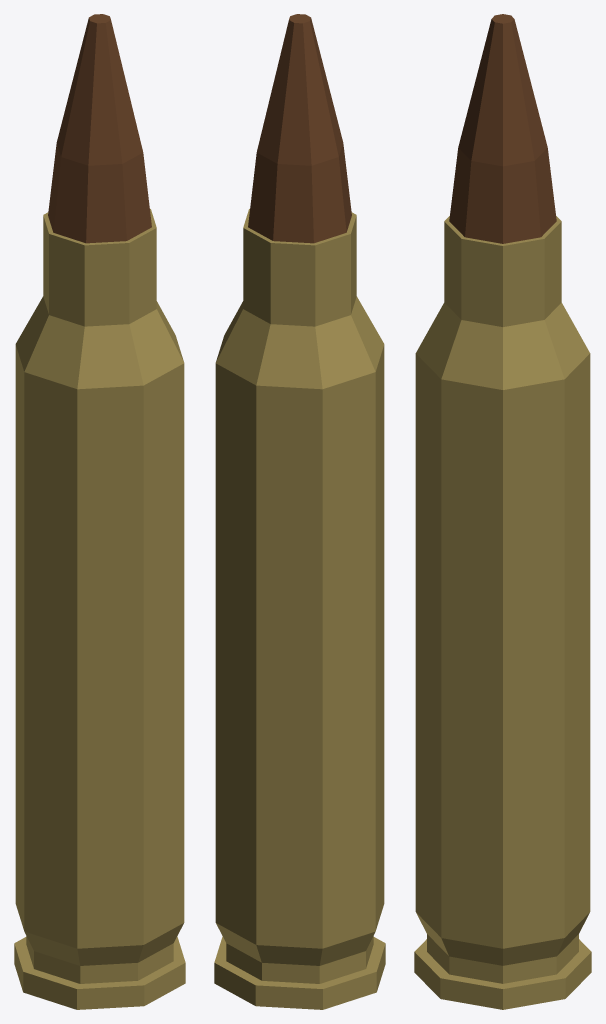
File: Ammo.fbx
3 renders of one model, left to right at view 1: azimuth 30°, elevation 25°; view 2: azimuth 150°, elevation 25°; view 3: azimuth 270°, elevation 25°, orthographic.
Parts seen in each view (by area): view 1: Case, Projectile; view 2: Case, Projectile; view 3: Case, Projectile.
Part boxes in pixels (bbox=[...]): Case: bbox=[14, 209, 185, 1009]; Projectile: bbox=[48, 14, 151, 243]; Case: bbox=[214, 209, 385, 1009]; Projectile: bbox=[248, 14, 351, 243]; Case: bbox=[414, 216, 591, 1009]; Projectile: bbox=[449, 14, 556, 243].
Size of the model in its own units: 0.9667 by 0.9667 by 5.74.
